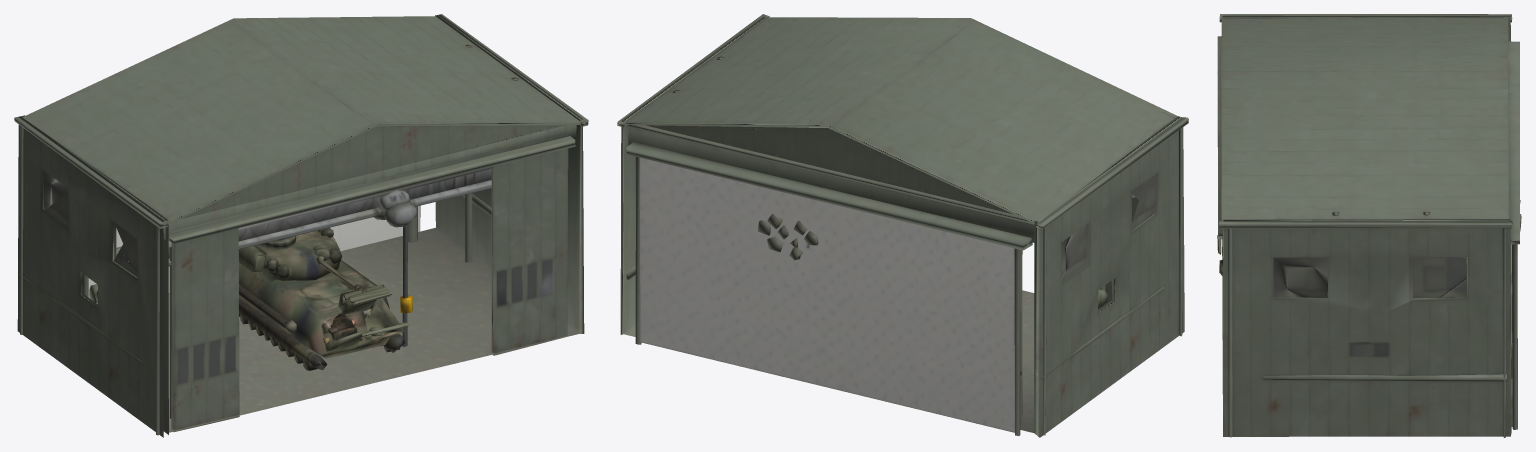
Rendered from cn-vehicle-factory.glb.
3 renders of one model, left to right at view 1: azimuth 30°, elevation 25°; view 2: azimuth 150°, elevation 25°; view 3: azimuth 270°, elevation 25°, orthographic.
Parts seen in each view (by area): view 1: geometry_0; view 2: geometry_0; view 3: geometry_0.
Part boxes in pixels (bbox=[...]): geometry_0: bbox=[14, 14, 588, 437]; geometry_0: bbox=[617, 14, 1188, 437]; geometry_0: bbox=[1217, 14, 1521, 437].
Size of the model in its own units: 1 by 0.5946 by 0.6154.
1 material, 1 textured.
